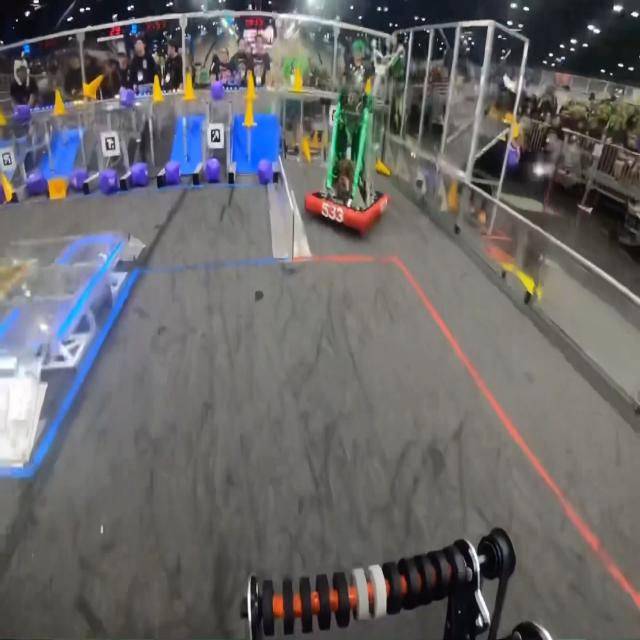robot: (303, 83, 391, 238)
